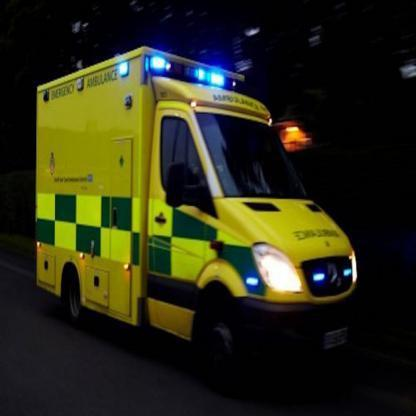Ambulance - v1 Ambulance last generate: (36, 46, 363, 382)
